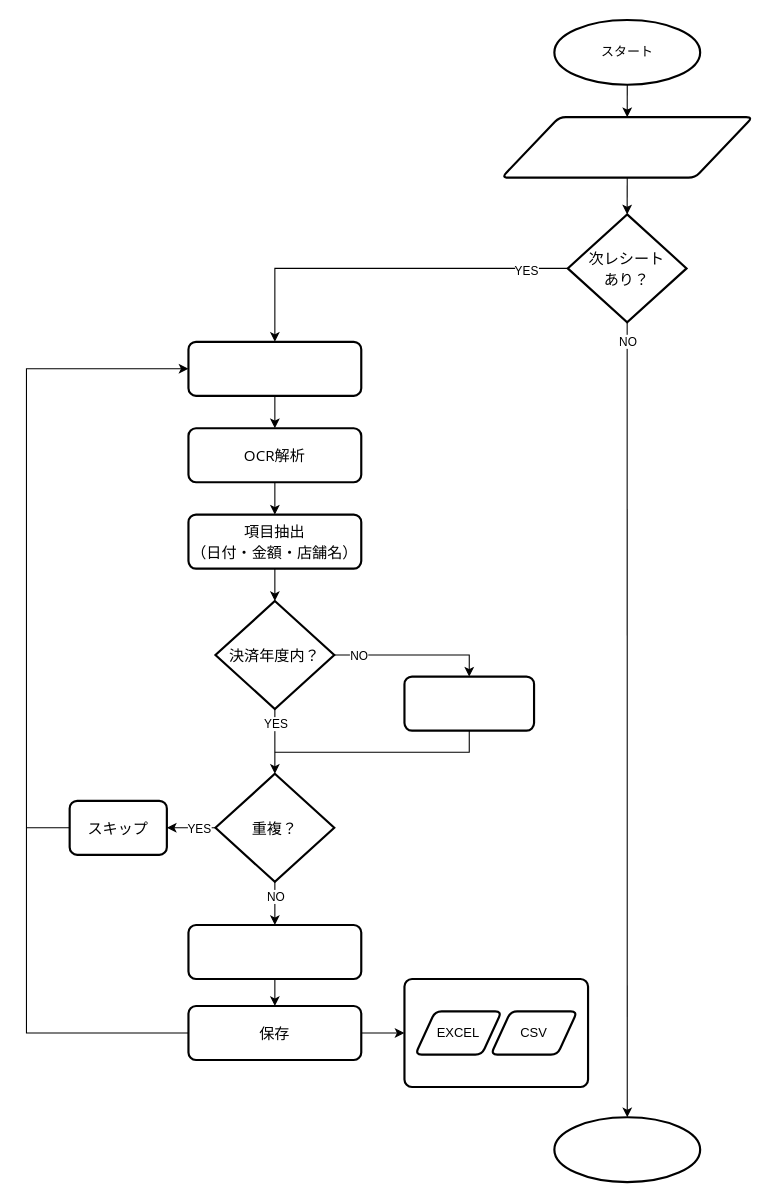
This 772x1201 diagram has some shape labels left out. Each missing label, with the box of its shape:
PDF → 画像変換 （必要な場合）: (187, 340, 362, 396)
エンド: (553, 1116, 701, 1183)
ファイル名変更: (187, 923, 362, 980)
入力 （レシート一覧： JPEG / PNG / PDF）: (500, 116, 753, 178)
警告フラグON: (403, 675, 535, 731)
